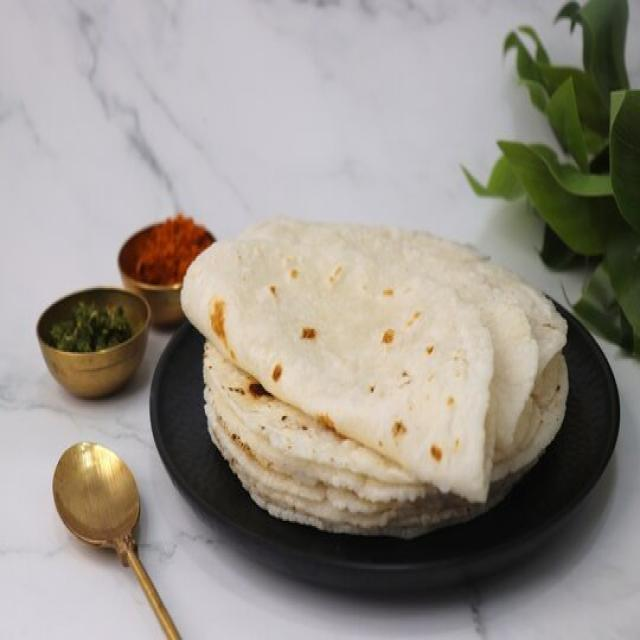RICE BHAKRI: (179, 219, 567, 507)
